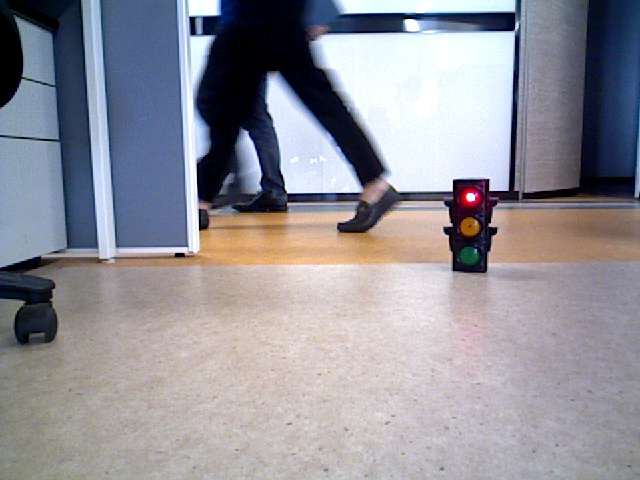red: (451, 181, 485, 266)
